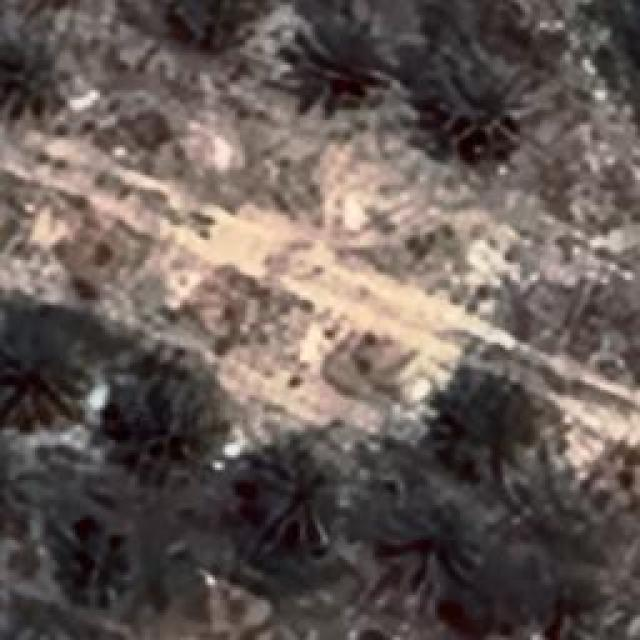PalmTree: (430, 40, 545, 165), (112, 371, 215, 484), (440, 374, 540, 486), (54, 501, 152, 611), (288, 14, 401, 104), (2, 326, 86, 432), (382, 500, 480, 585), (255, 452, 343, 546), (0, 36, 70, 132), (164, 0, 264, 52)
